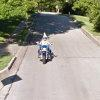Motorcycle: (30, 37, 63, 75)
